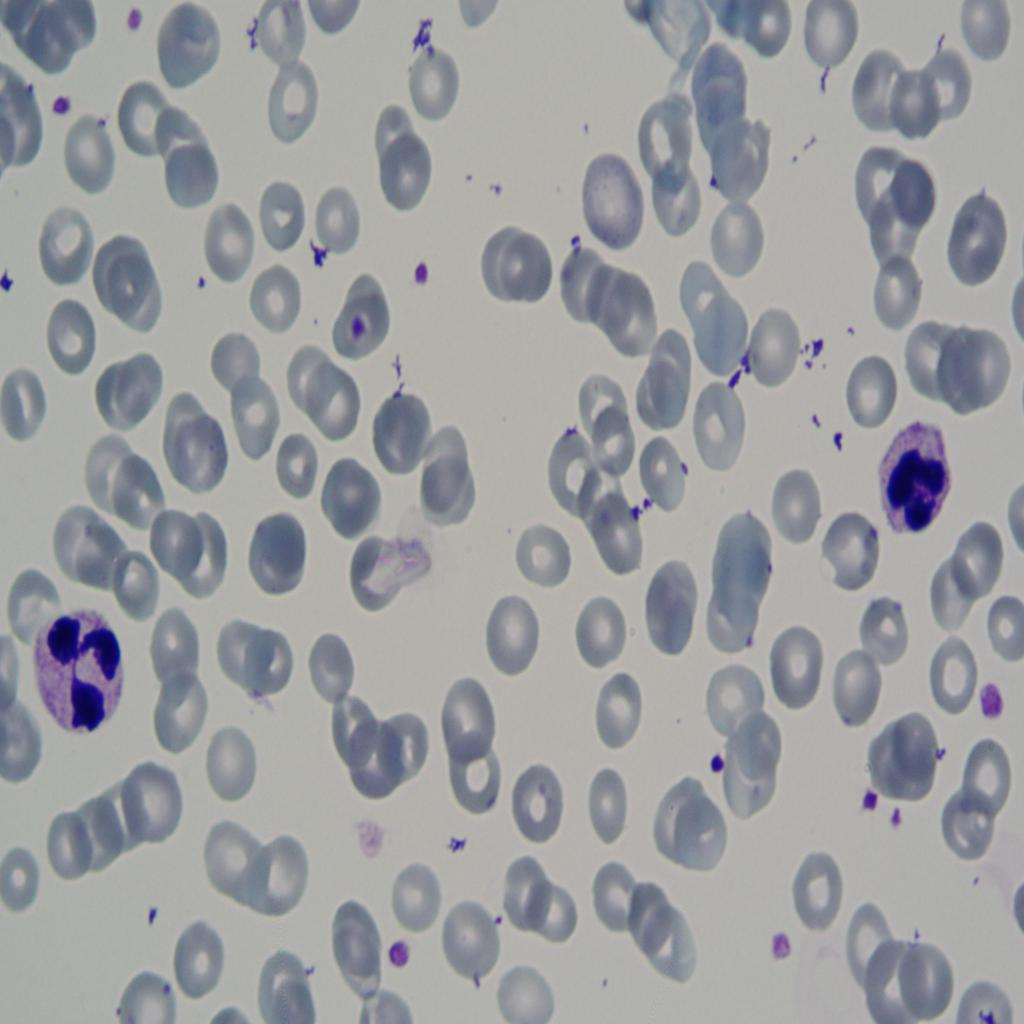Neutrofil: (32, 600, 126, 738), (876, 414, 952, 562)
Platelet: (970, 668, 1008, 722), (384, 932, 424, 982), (408, 252, 436, 294), (771, 930, 798, 972), (853, 779, 881, 815), (122, 3, 147, 42), (883, 794, 910, 830), (346, 310, 371, 348), (0, 268, 25, 302), (44, 85, 68, 118), (192, 257, 210, 298), (705, 746, 725, 777)
